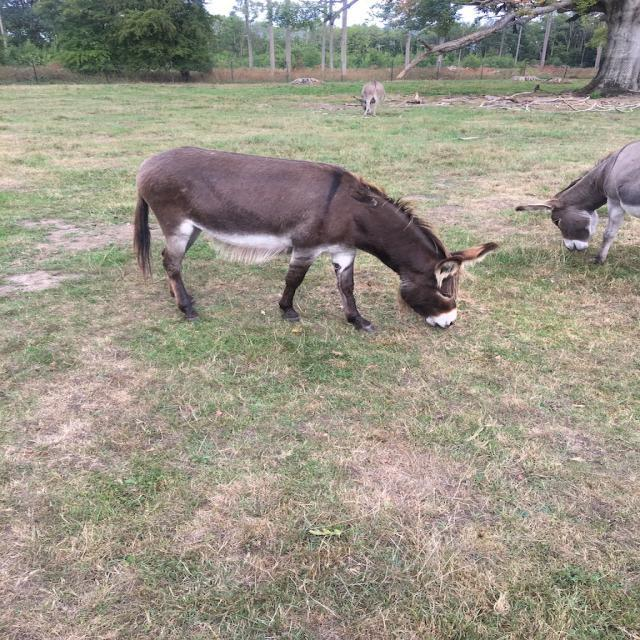Donkey: (131, 146, 503, 337), (513, 137, 640, 268), (359, 80, 386, 120)
